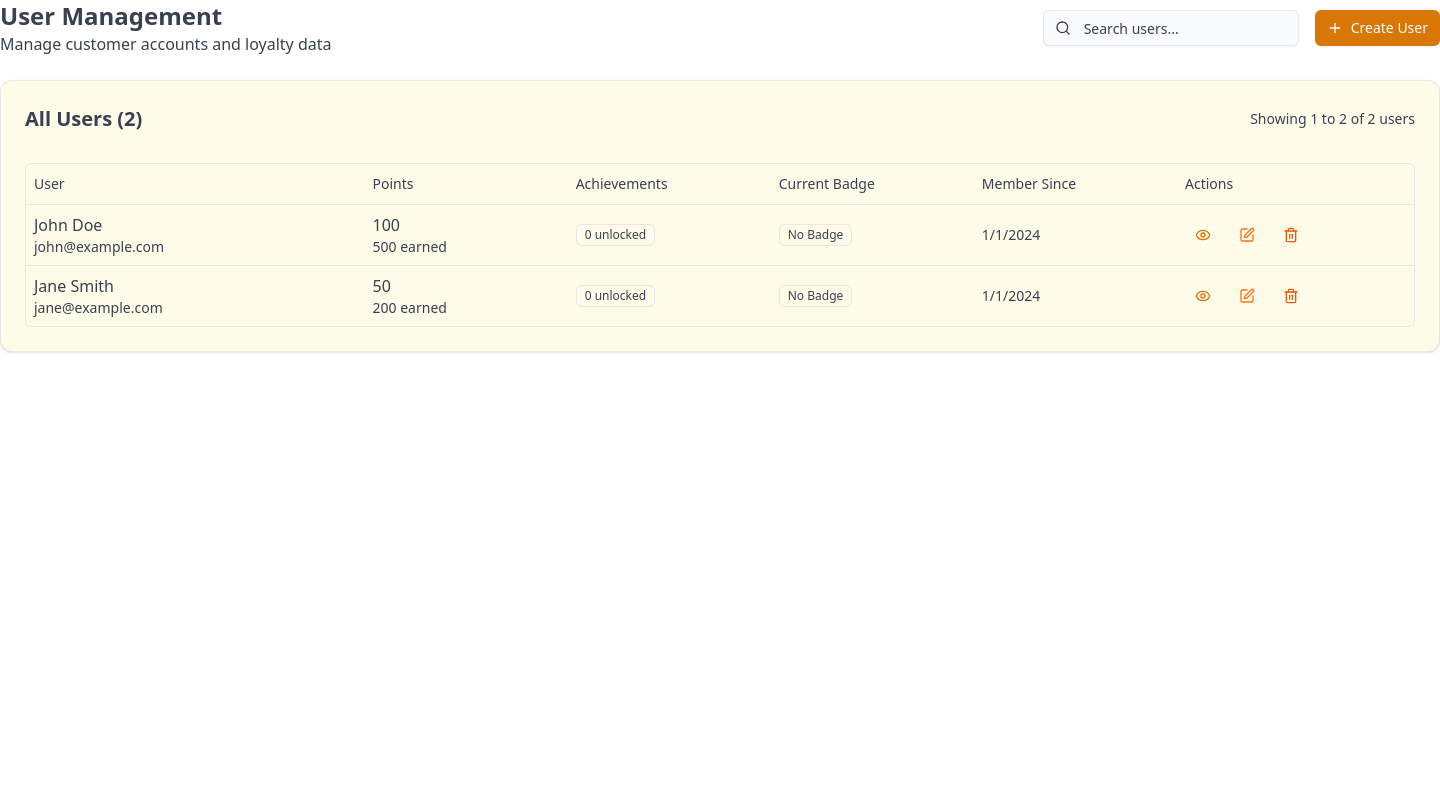
Scenario: UserManagement Component › closes modals when cancel buttons are clicked
This screenshot has width=1440, height=810.
// Open create modal
Click the button "Create User".
click(1377, 28)  # box [1315,10,1439,46]
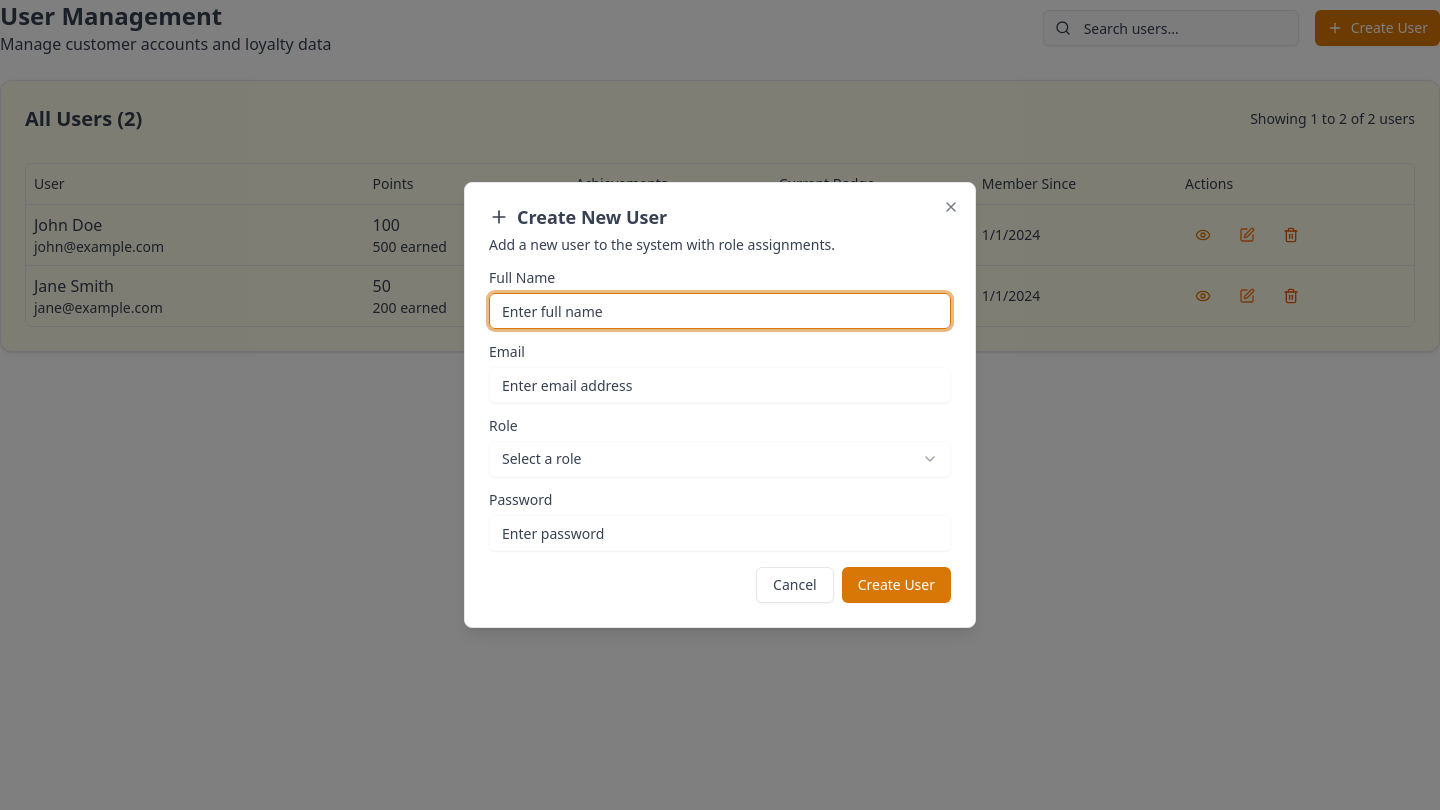
Now the heading "Create New User" is shown, box [489,205,667,229]
// Close modal
Click the button "Cancel".
click(795, 585)  # box [756,567,834,603]
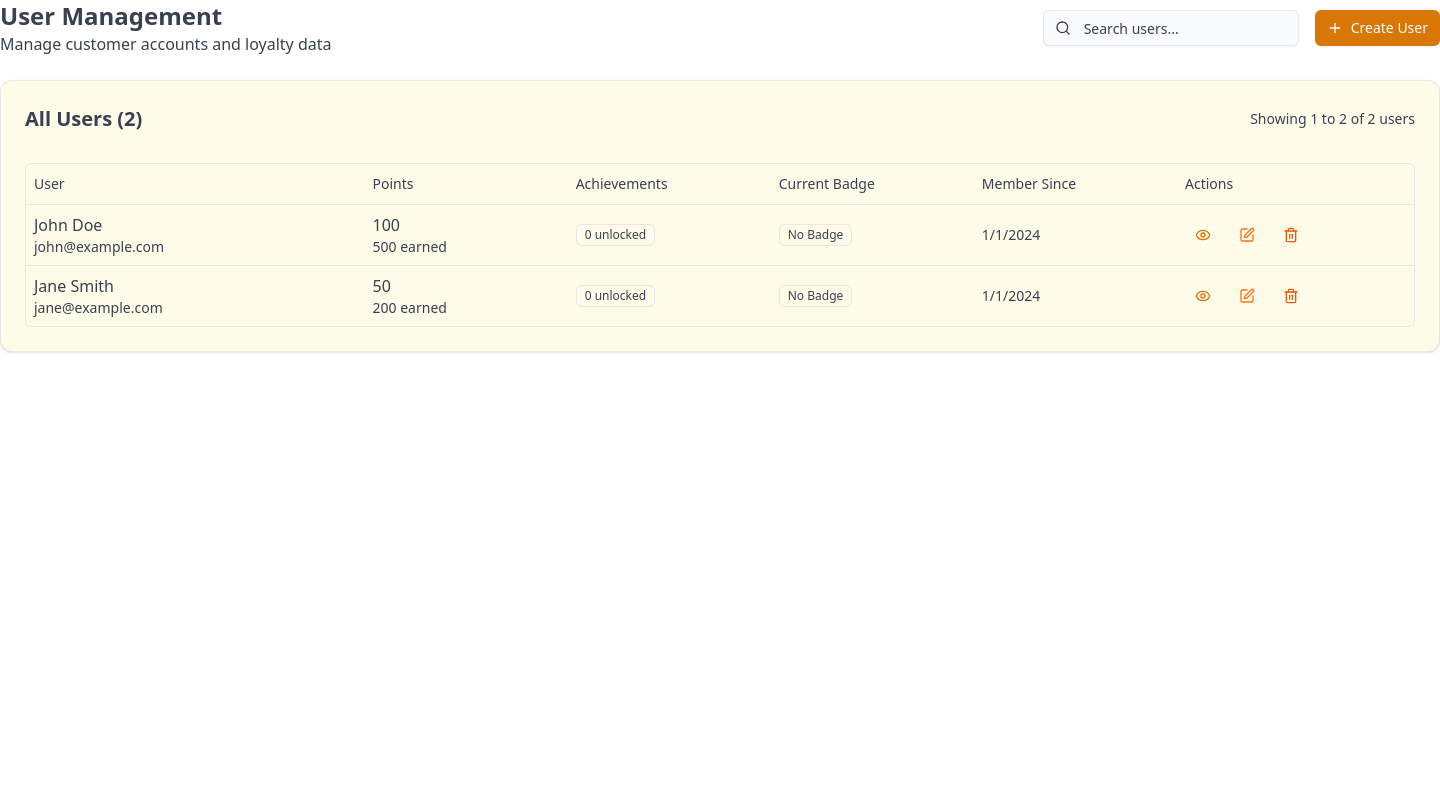
Now the heading "Create New User" is gone
